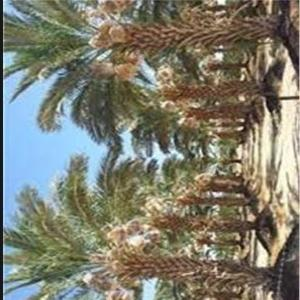palm tree: (2, 0, 299, 299)
